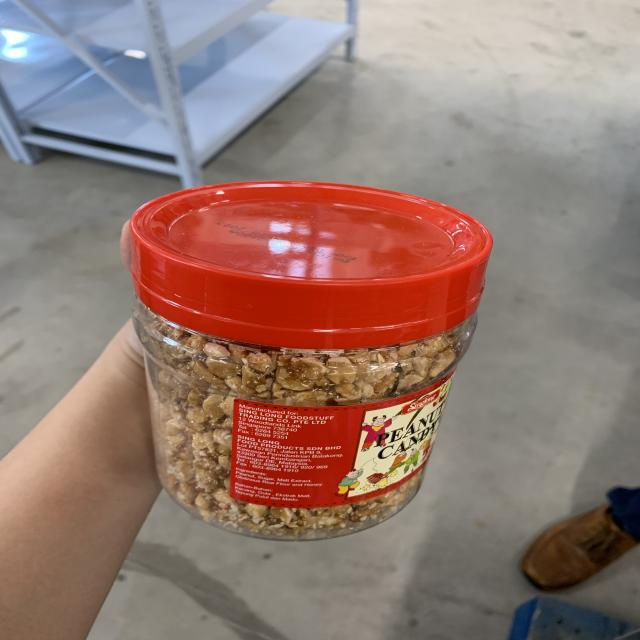object_name: (129, 202, 457, 541)
